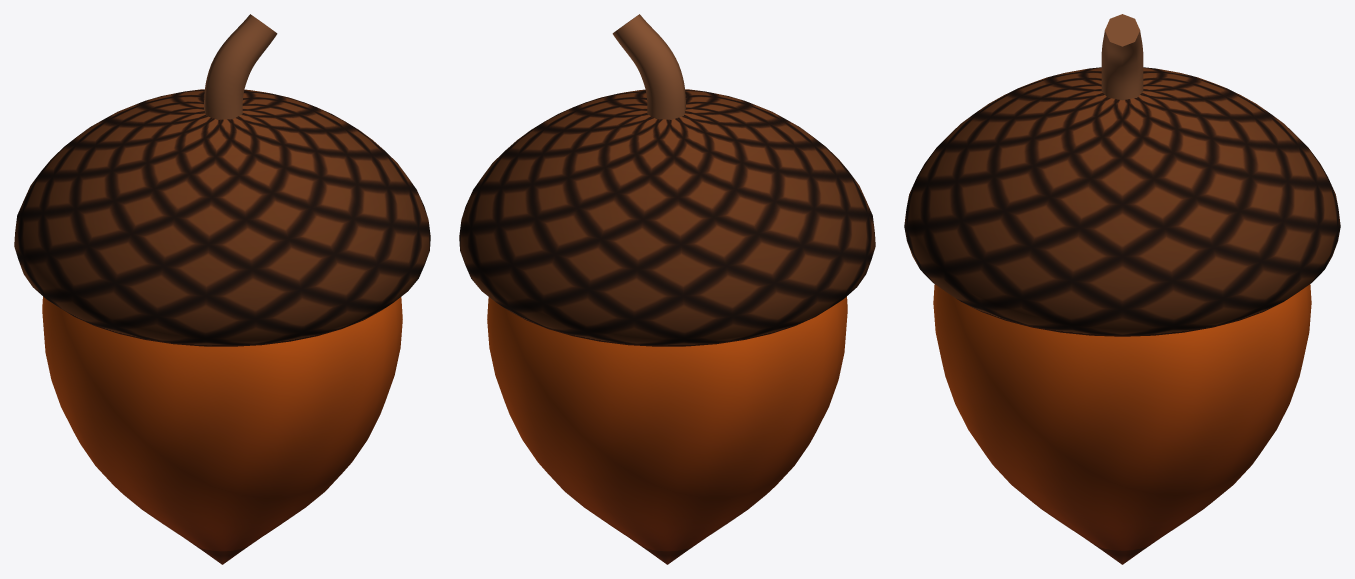
Rendered from acorn.glb.
3 views of the same model, side by side, from view 1: azimuth 30°, elevation 25°; view 2: azimuth 150°, elevation 25°; view 3: azimuth 270°, elevation 25° (orthographic). The views are drawn at different scales.
Parts seen in each view (by area): view 1: Acorn; view 2: Acorn; view 3: Acorn.
Part boxes in pixels (<box>): Acorn: <box>14,14,430,564</box>; Acorn: <box>459,14,875,564</box>; Acorn: <box>904,14,1340,564</box>.
Bounding box in the file's own units: 0.2095 × 0.3 × 0.2095.
Materials: 3 (2 with a texture image).
